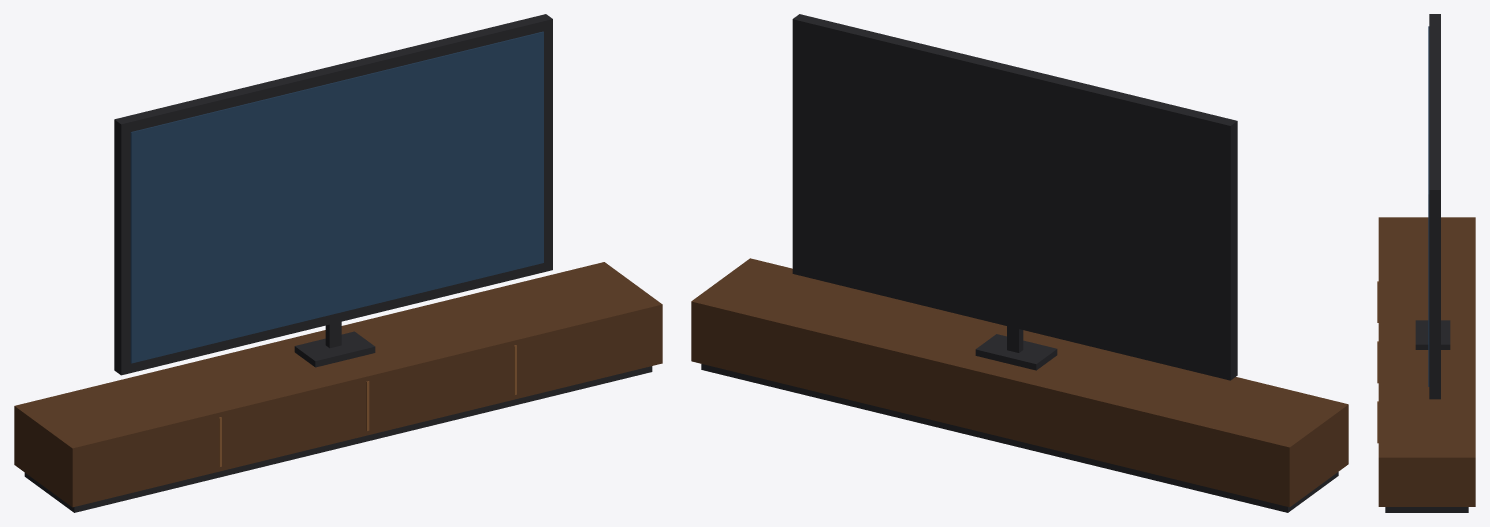
The model's file is tv_big.glb.
The picture shows the model from 3 angles, left to right: view 1: azimuth 30°, elevation 25°; view 2: azimuth 150°, elevation 25°; view 3: azimuth 270°, elevation 25°; orthographic projection. The views are drawn at different scales.
Parts seen in each view (by area): view 1: tv_big; view 2: tv_big; view 3: tv_big.
Part boxes in pixels (<box>): tv_big: <box>14,14,662,512</box>; tv_big: <box>691,14,1348,512</box>; tv_big: <box>1377,14,1475,512</box>.
Bounding box in the file's own units: 4.92 × 2.8 × 0.85.
